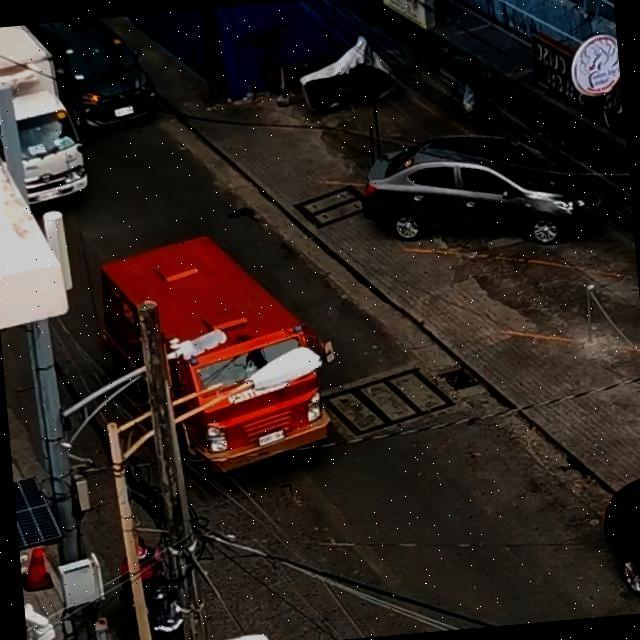Truck: (74, 208, 340, 480), (0, 20, 86, 202)
